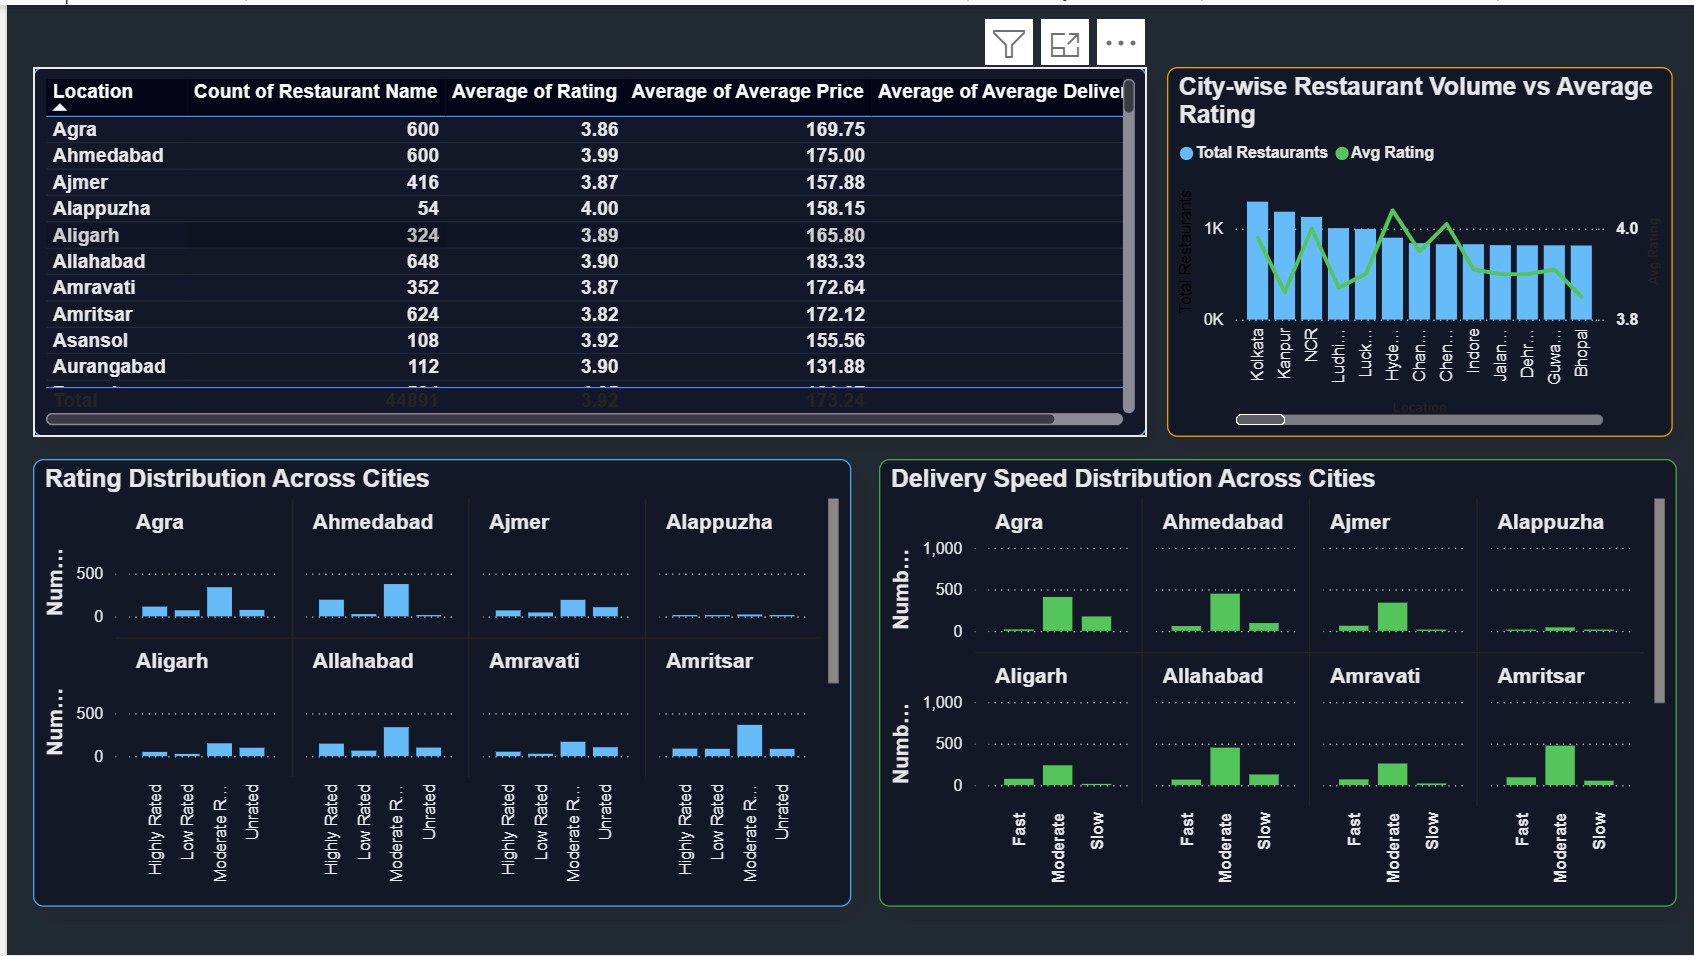

What the dashboard file says about the page in this screenshot:
{"tool":"powerbi","page":{"name":"City-level Performance Analysis","canvas":[1280,720],"ordinal":1},"visuals":[{"type":"tableEx","fields":{"Values":["zomato_dataset_feature_engineered.Location","zomato_dataset_feature_engineered.Restaurant Name","Avg(zomato_dataset_feature_engineered.Rating)","Avg(zomato_dataset_feature_engineered.Average Price)","Avg(zomato_dataset_feature_engineered.Average Delivery Time)"]},"box":[19.7,24.3,844.7,304.8],"z":0},{"type":"lineClusteredColumnComboChart","title":"City-wise Restaurant Volume vs Average Rating","fields":{"Category":["zomato_dataset_feature_engineered.Location"],"Y":["zomato_dataset_feature_engineered.Total Restaurants"],"Y2":["zomato_dataset_feature_engineered.Avg Rating"]},"box":[879.6,24.3,383.7,304.8],"z":1000},{"type":"clusteredColumnChart","title":"Rating Distribution Across Cities","fields":{"Category":["zomato_dataset_feature_engineered.Rating_Category"],"Y":["zomato_dataset_feature_engineered.Total Restaurants"],"Rows":["zomato_dataset_feature_engineered.Location"]},"box":[19.7,344.3,620.3,339.7],"z":2000},{"type":"clusteredColumnChart","title":"Delivery Speed Distribution Across Cities","fields":{"Category":["zomato_dataset_feature_engineered.Delivery_Speed_Category"],"Y":["zomato_dataset_feature_engineered.Total Restaurants"],"Rows":["zomato_dataset_feature_engineered.Location"]},"box":[661.2,344.3,605.1,339.7],"z":3000}]}

Visuals, with their boxes in screenshot pixels (x1, y1, x2, y2), scaled from the page's 1280x720 canvas onto the 1694x956 screenshot:
tableEx - zomato_dataset_feature_engineered.Location x zomato_dataset_feature_engineered.Restaurant Name: [left=26, top=32, right=1144, bottom=437]
"City-wise Restaurant Volume vs Average Rating" lineClusteredColumnComboChart: [left=1164, top=32, right=1672, bottom=437]
"Rating Distribution Across Cities" clusteredColumnChart: [left=26, top=457, right=847, bottom=908]
"Delivery Speed Distribution Across Cities" clusteredColumnChart: [left=875, top=457, right=1676, bottom=908]
